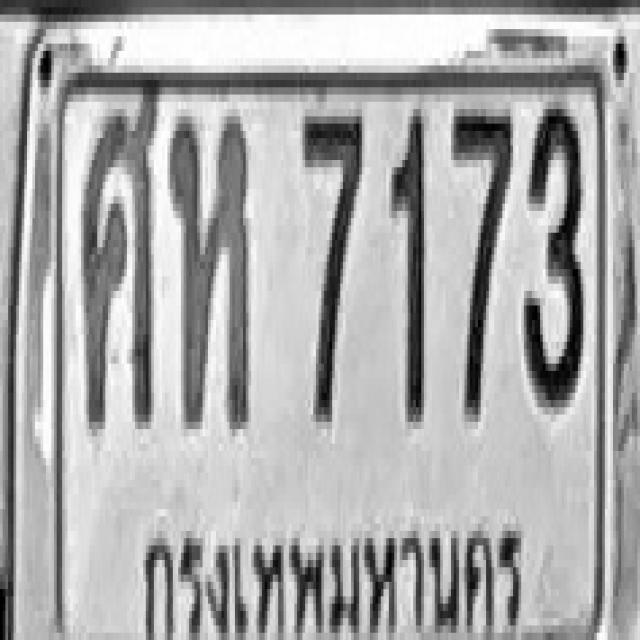1: (389, 106, 424, 418)
3: (524, 102, 583, 407)
47SorSala: (81, 87, 159, 429)
50HorHeep: (169, 109, 250, 429)
7: (452, 102, 512, 422), (302, 109, 362, 422)
Bangkok: (132, 502, 535, 640)
